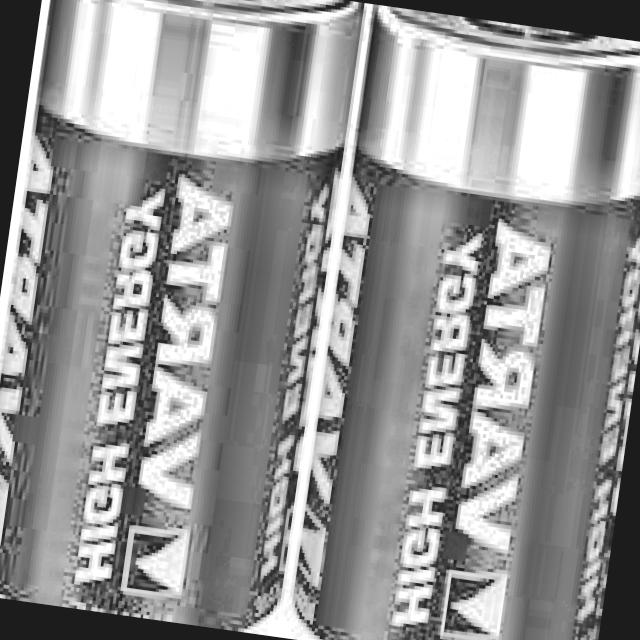Battery: (0, 0, 367, 637), (287, 5, 640, 640)
